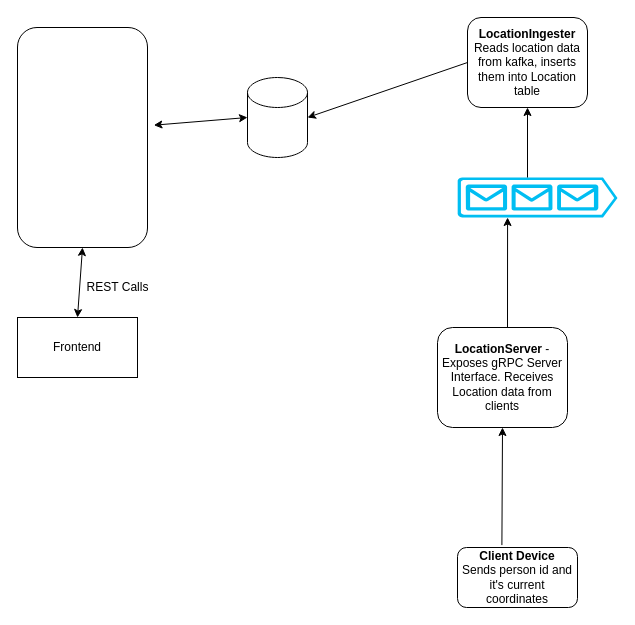
This 635x625 diagram has some shape labels left out. Each missing label, with the box of its shape:
API PersonService ConnectionService Delete API For Location Service: (16, 26, 148, 248)
Kafka: (457, 177, 617, 217)
